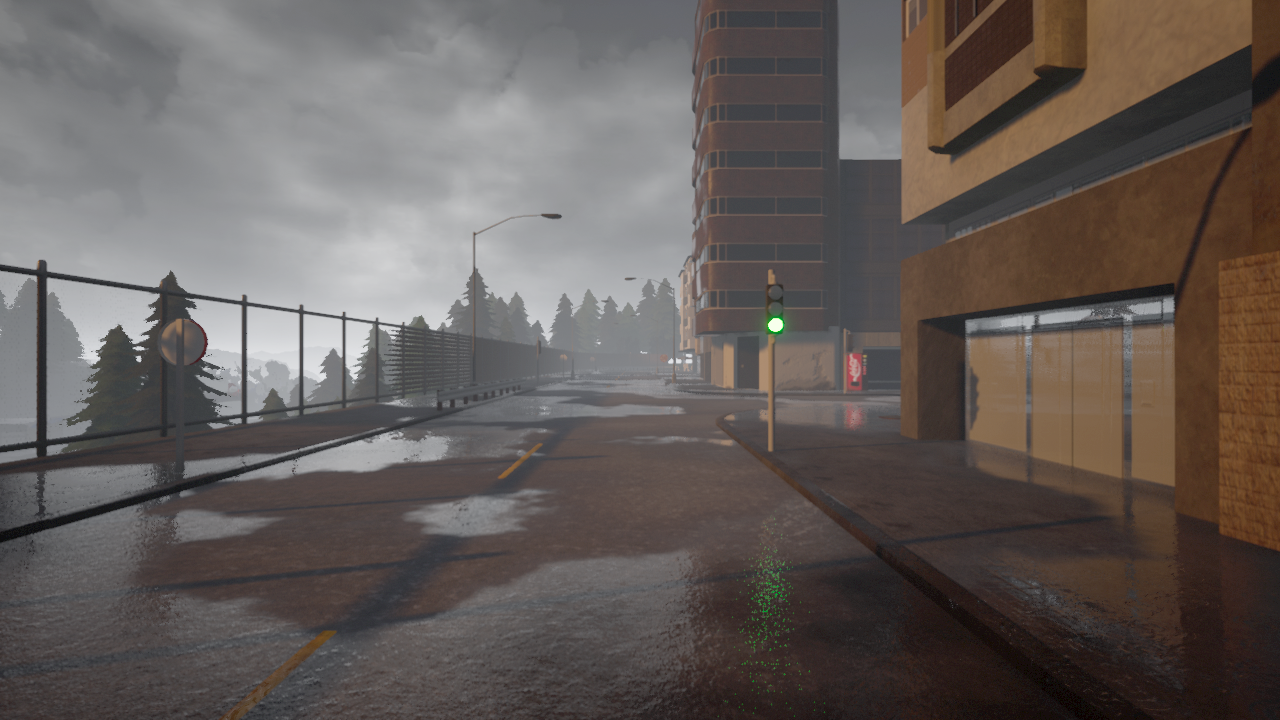green: (765, 283, 786, 335)
